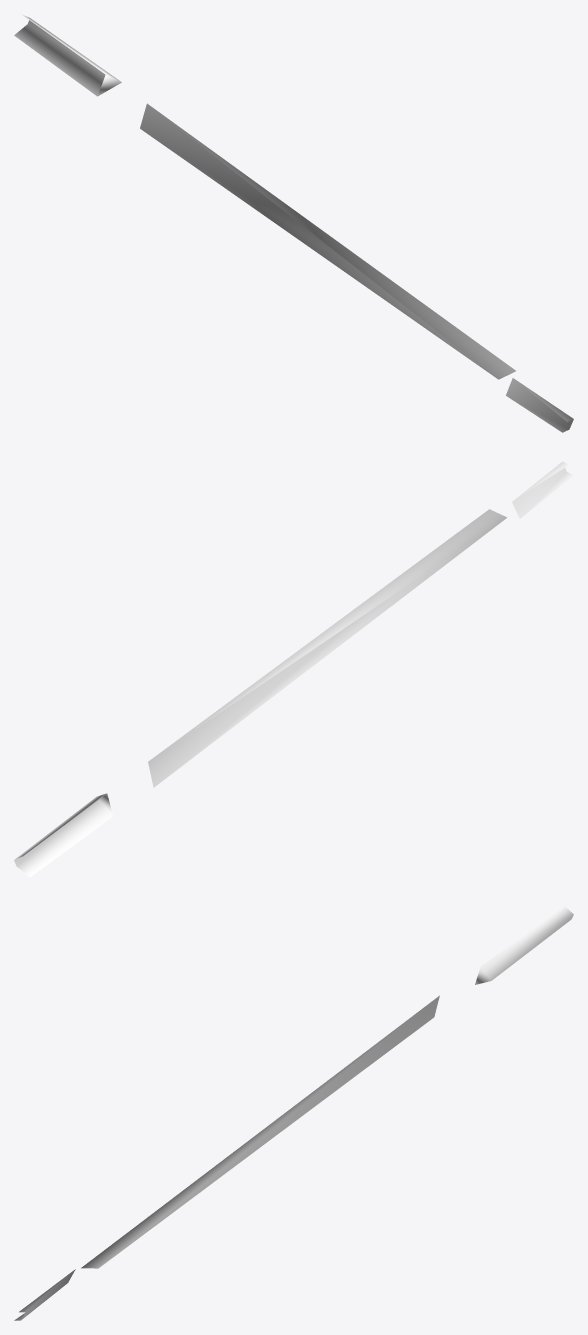
The picture shows the model from 3 angles, top to bottom: view 1: azimuth 30°, elevation 25°; view 2: azimuth 150°, elevation 25°; view 3: azimuth 330°, elevation 25°; orthographic projection.
Size of the model in its own units: 0.0256 by 0.0285 by 1.17.
Materials: 1 (1 with a texture image).
